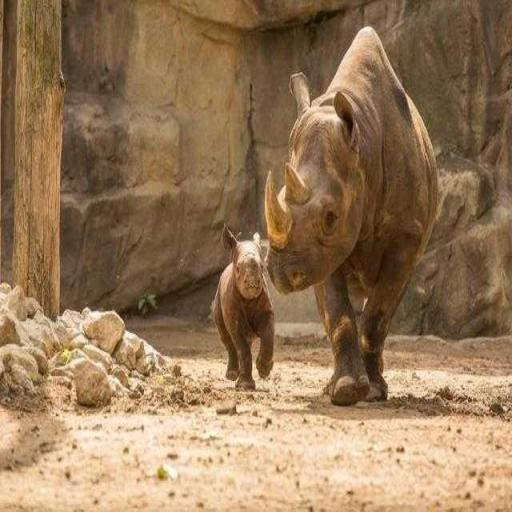Rhino: (264, 24, 438, 405), (210, 223, 275, 390)
